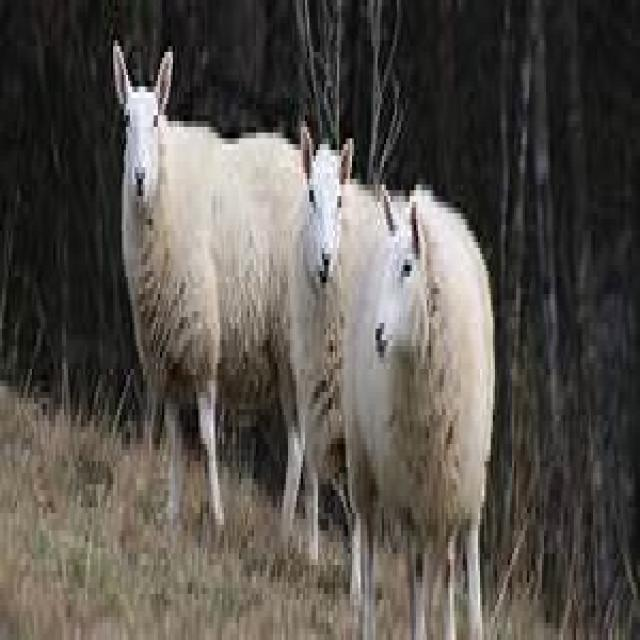sheep: (111, 35, 352, 565), (337, 173, 495, 634)
